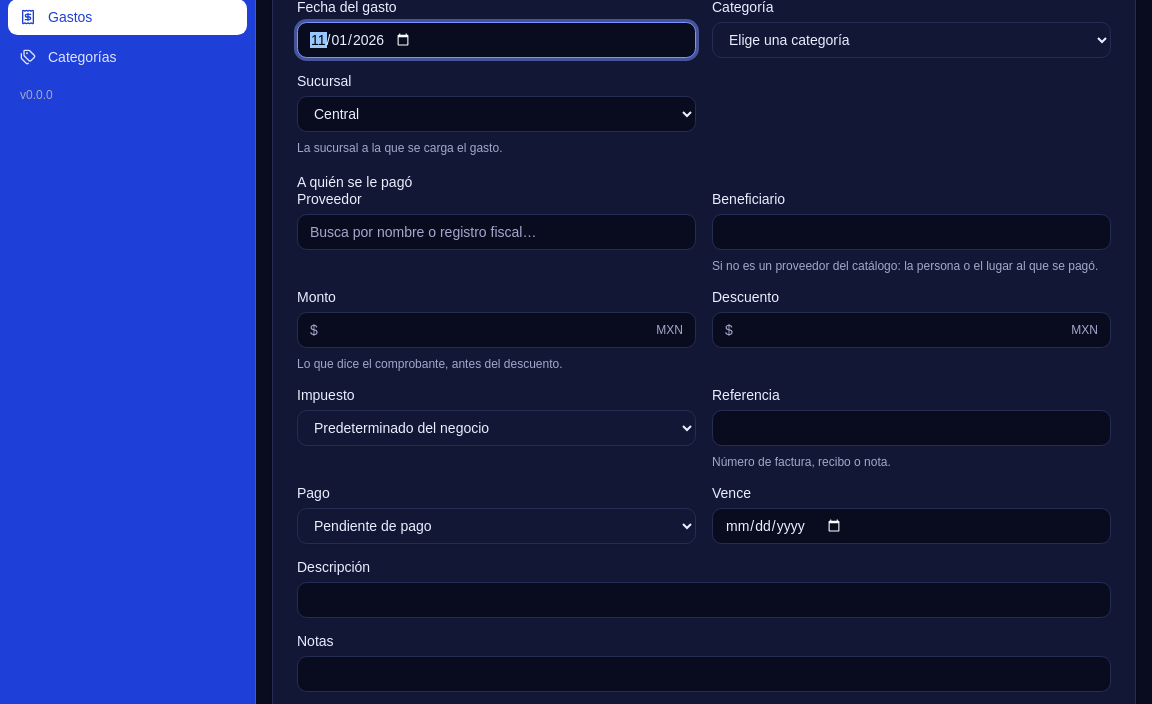
Test: Gastos — formulario (F9-EXP-14) › «Pendiente» esconde el método y muestra el vencimiento; con efectivo aparece la caja
This screenshot has width=1152, height=704.
(page scrolled)
Expected: the date field labelled "Vence" is shown, [712, 508, 1111, 544]
Expected: the field labelled "Caja de origen" is not shown
Select "Efectivo" in the dropdown labelled "Pago". click: (496, 526)
box: [297, 508, 696, 544]
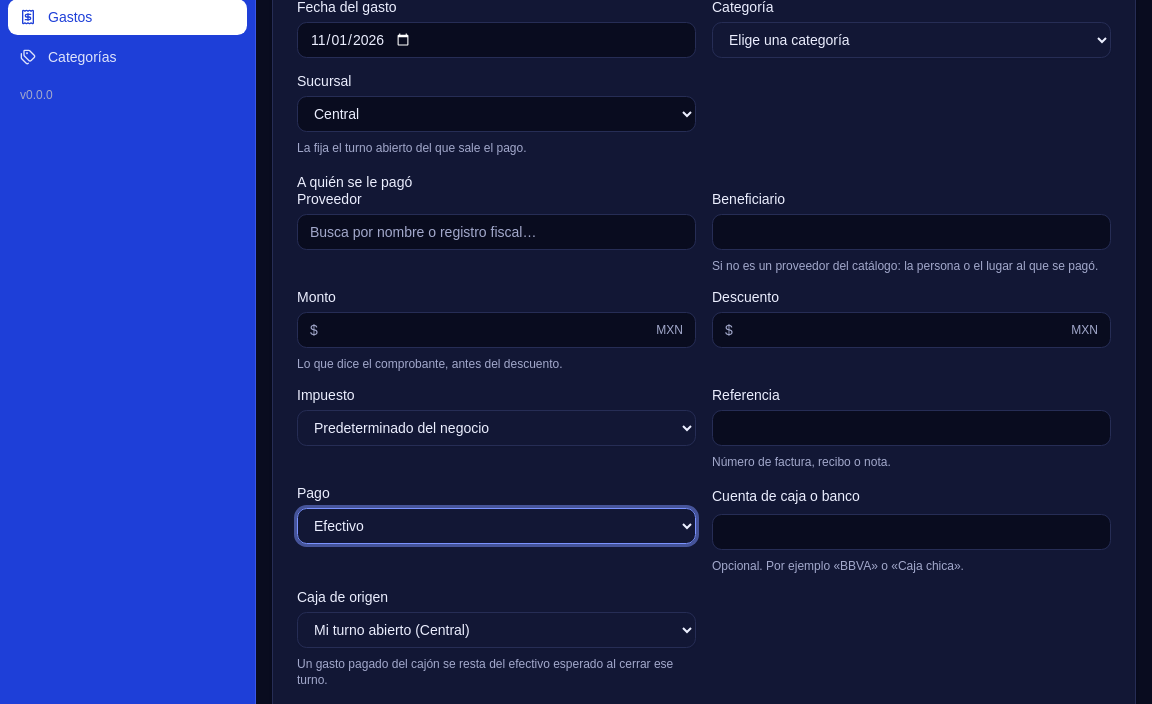
Expected: the label labelled "Vence" is gone
Expected: the dropdown labelled "Caja de origen" shows "Mi turno abierto (Central)", [297, 612, 696, 648]
